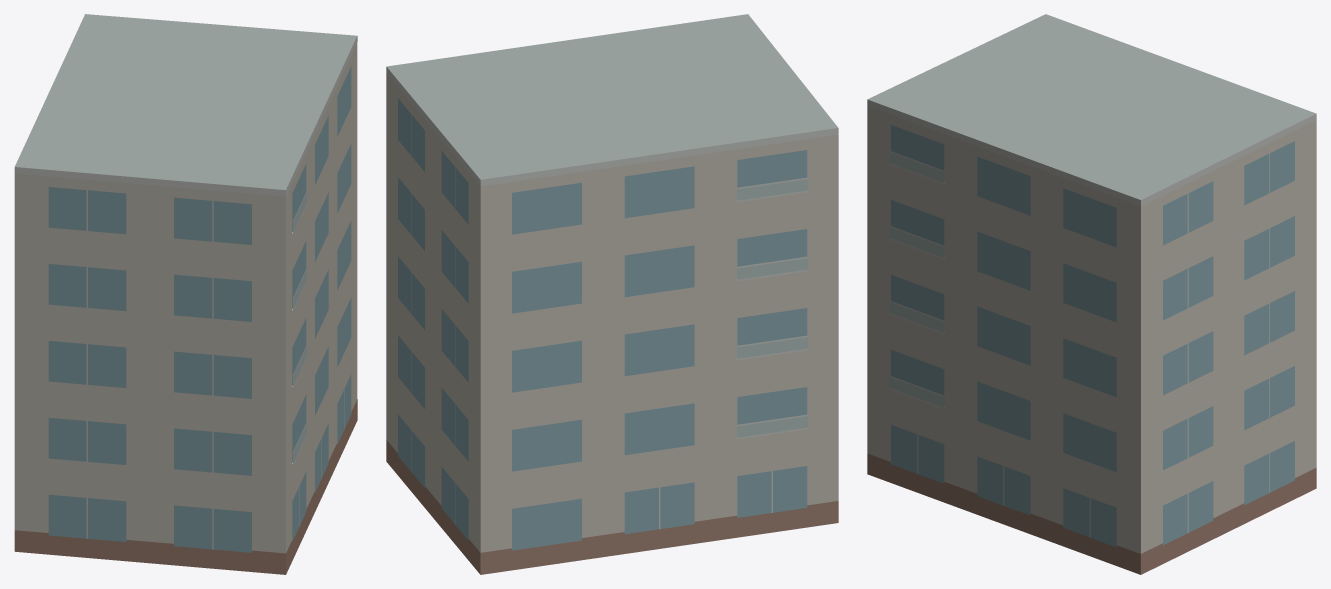
Rendered from survey-upis-32713179.glb.
The picture shows the model from 3 angles, left to right: view 1: azimuth 30°, elevation 25°; view 2: azimuth 150°, elevation 25°; view 3: azimuth 270°, elevation 25°; orthographic projection. The views are drawn at different scales.
Visible parts, largest first — view 1: survey-upis-32713179.tmp; view 2: survey-upis-32713179.tmp; view 3: survey-upis-32713179.tmp.
Boxes of the visible parts, x1,y1,x2,y2 form: survey-upis-32713179.tmp: (14,14,357,574); survey-upis-32713179.tmp: (386,14,838,574); survey-upis-32713179.tmp: (867,14,1316,574).
Bounding box in the file's own units: 15.45 × 14.5 × 15.77.
